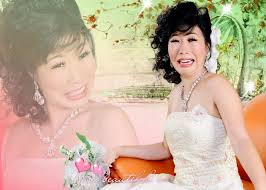asian_female: (148, 1, 222, 90)
